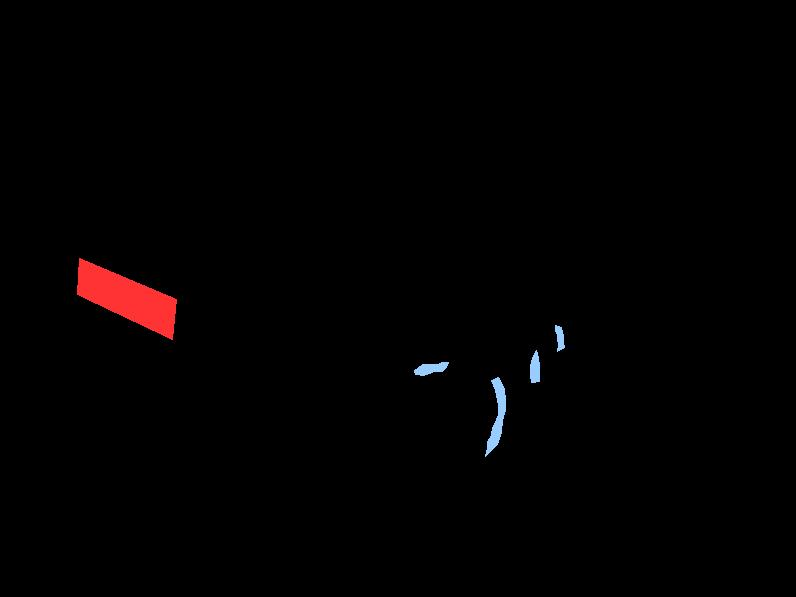Corrosion: (485, 377, 505, 456), (414, 362, 448, 375), (530, 350, 539, 382), (555, 325, 564, 351)
Missing part: (77, 258, 176, 339)
